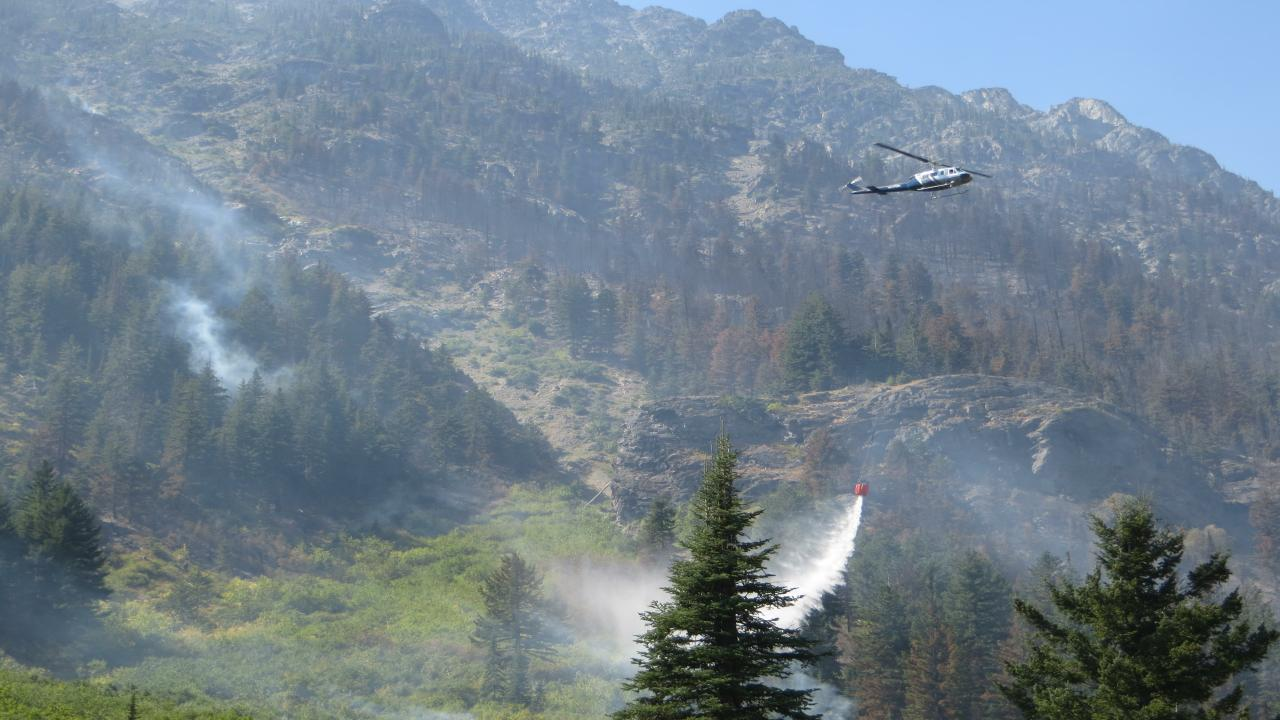Helicopter: (822, 134, 1009, 226)
